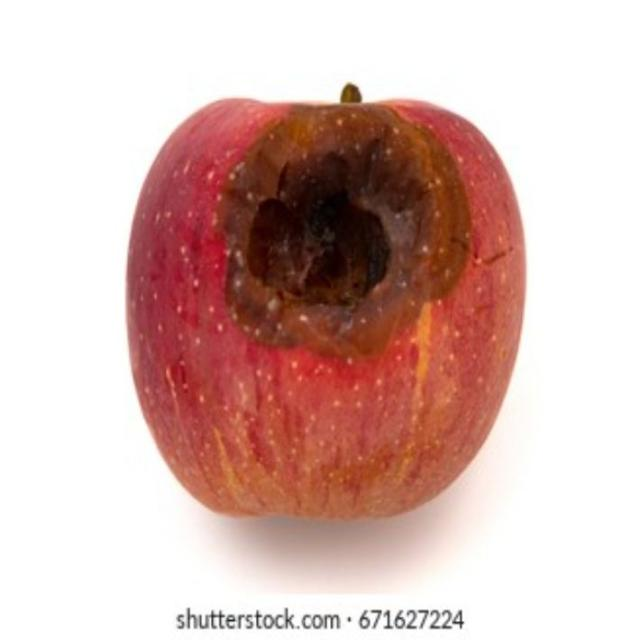Rotten Apple: (93, 77, 570, 546)
